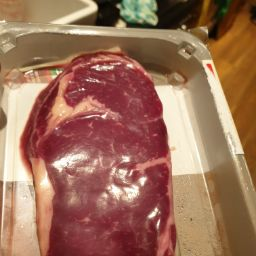Beef: (18, 54, 172, 254), (36, 46, 174, 249), (18, 82, 161, 256)
